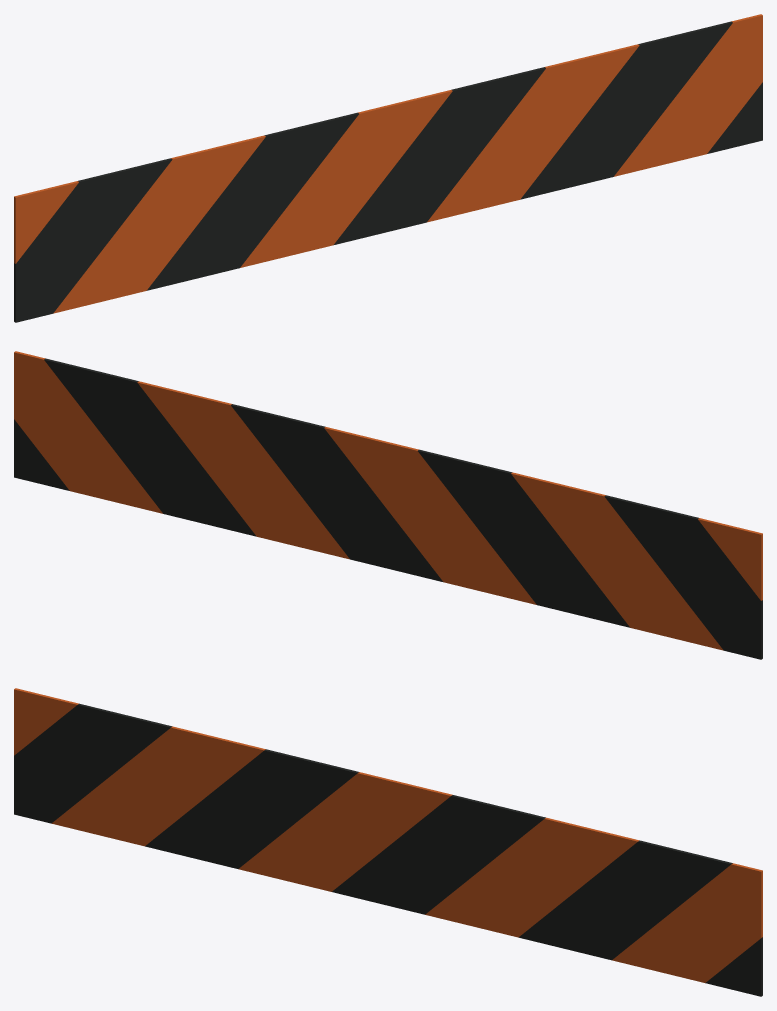
Rendered from tape_half.glb.
3 renders of one model, top to bottom at view 1: azimuth 30°, elevation 25°; view 2: azimuth 150°, elevation 25°; view 3: azimuth 330°, elevation 25°, orthographic.
Visible parts, largest first — view 1: SM_Construction_Tape_Half; view 2: SM_Construction_Tape_Half; view 3: SM_Construction_Tape_Half.
Part boxes in pixels (left/top/right/bottom): SM_Construction_Tape_Half: left=14, top=14, right=762, bottom=322; SM_Construction_Tape_Half: left=14, top=351, right=762, bottom=659; SM_Construction_Tape_Half: left=14, top=688, right=762, bottom=996.
Size of the model in its own units: 0.5 by 0.08 by 0.002.
